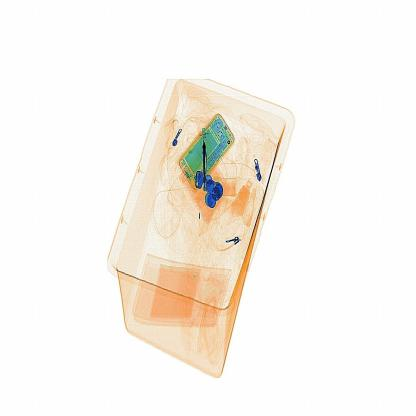knife: (198, 134, 221, 196)
